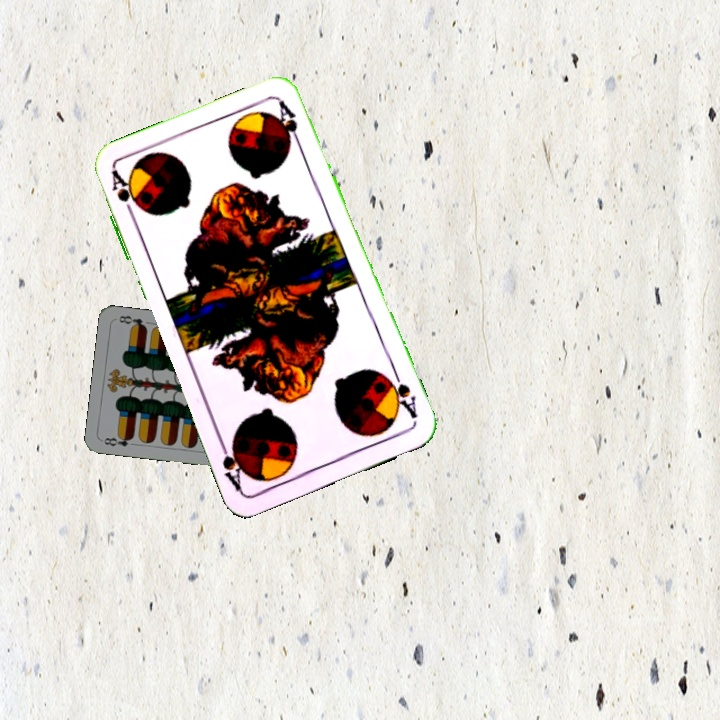E8: (100, 431, 136, 449)
SA: (381, 366, 420, 422), (107, 166, 143, 223)
